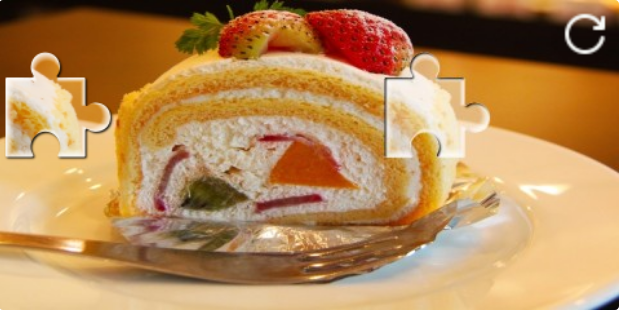target: (385, 53, 489, 158)
